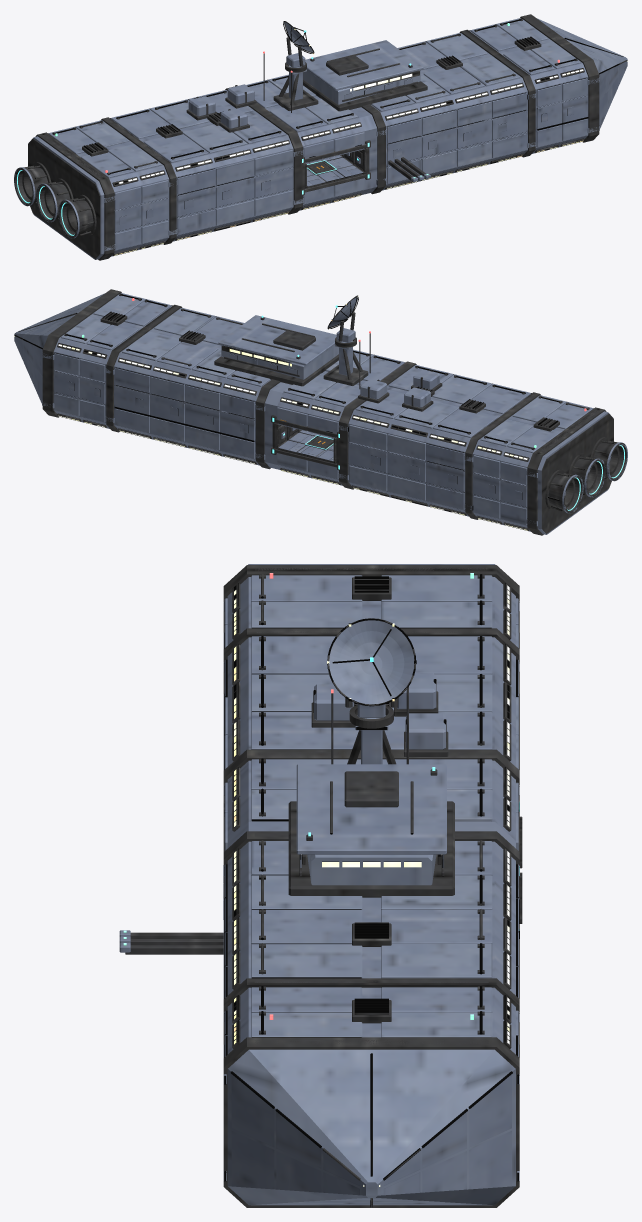
The model's file is cargo_carrier_assembled.glb.
3 views of the same model, one above another, from view 1: azimuth 30°, elevation 25°; view 2: azimuth 150°, elevation 25°; view 3: azimuth 270°, elevation 25° (orthographic). The views are drawn at different scales.
Visible parts, largest first — view 1: hull, interior, glass, dish_yaw, dish_pitch, emissive; view 2: hull, interior, glass, dish_yaw, dish_pitch, emissive; view 3: hull, dish_pitch, glass, dish_yaw.
Boxes of the visible parts, bbox=[...] form: hull: bbox=[14, 14, 627, 260]; interior: bbox=[305, 147, 365, 188]; glass: bbox=[114, 69, 583, 255]; dish_yaw: bbox=[285, 37, 306, 72]; dish_pitch: bbox=[283, 20, 314, 54]; emissive: bbox=[17, 23, 627, 235]; hull: bbox=[14, 289, 627, 535]; interior: bbox=[276, 422, 336, 463]; glass: bbox=[58, 344, 527, 530]; dish_yaw: bbox=[335, 312, 356, 347]; dish_pitch: bbox=[327, 295, 358, 329]; emissive: bbox=[14, 298, 624, 510]; hull: bbox=[119, 564, 519, 1207]; dish_pitch: bbox=[327, 618, 416, 706]; glass: bbox=[234, 585, 509, 1044]; dish_yaw: bbox=[345, 698, 397, 728].
Size of the model in its own units: 8150 by 2163 by 2448.
Materials: 4 (4 with a texture image).
